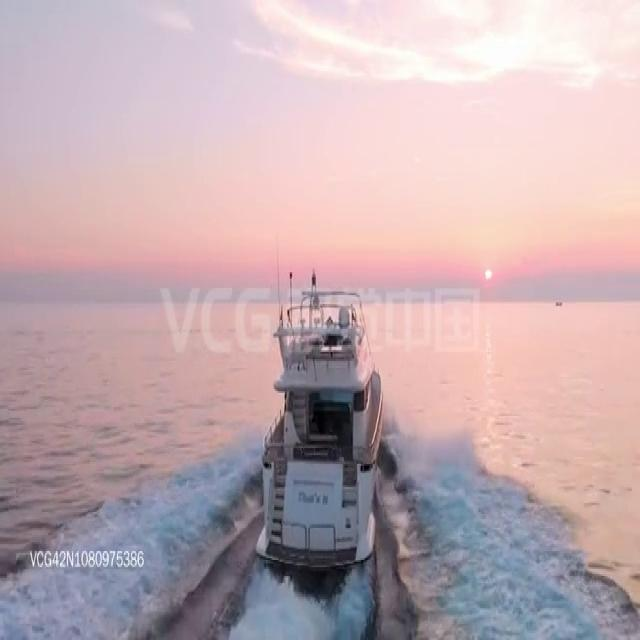houseboat: (261, 271, 382, 573)
